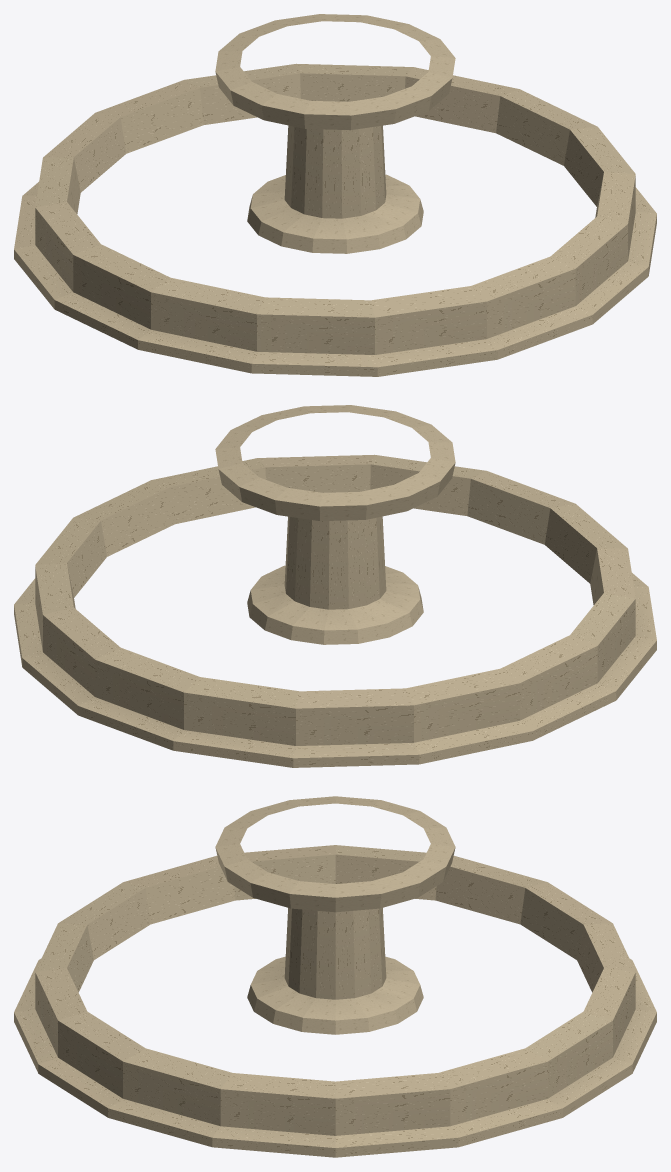
The model's file is fountain.glb.
3 views of the same model, one above another, from view 1: azimuth 30°, elevation 25°; view 2: azimuth 150°, elevation 25°; view 3: azimuth 270°, elevation 25° (orthographic).
Visible parts, largest first — view 1: basin, pedestal; view 2: basin, pedestal; view 3: basin, pedestal.
Boxes of the visible parts, x1,y1,x2,y2 form: basin: (14, 63, 656, 376); pedestal: (215, 14, 455, 253); basin: (14, 454, 656, 767); pedestal: (215, 405, 455, 644); basin: (14, 845, 656, 1157); pedestal: (215, 796, 455, 1034).
Size of the model in its own units: 9.1 by 2.78 by 9.1.
Materials: 1 (1 with a texture image).
